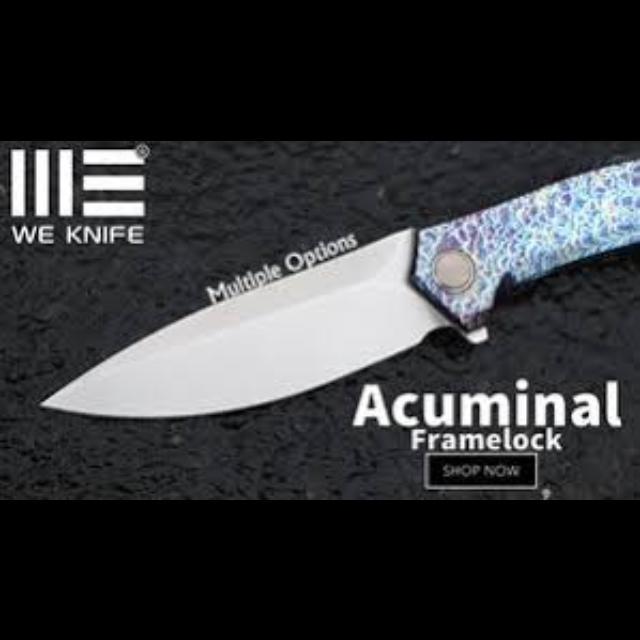knife: (38, 156, 638, 418)
